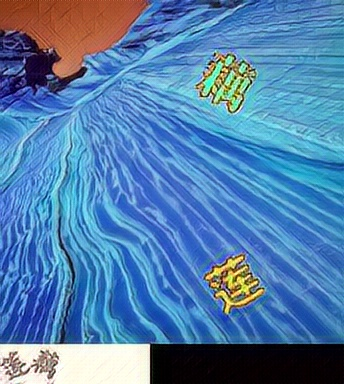C1AB: (203, 249, 266, 315)
C5BA: (193, 48, 256, 114)
